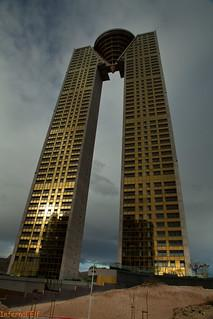building: (5, 22, 197, 284)
